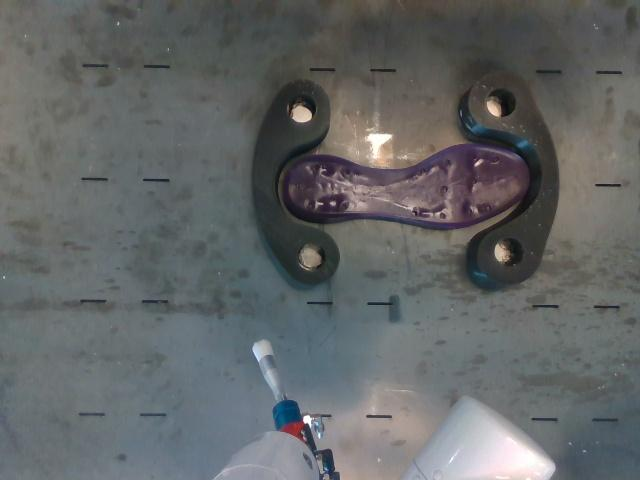shoes: (283, 144, 530, 230)
